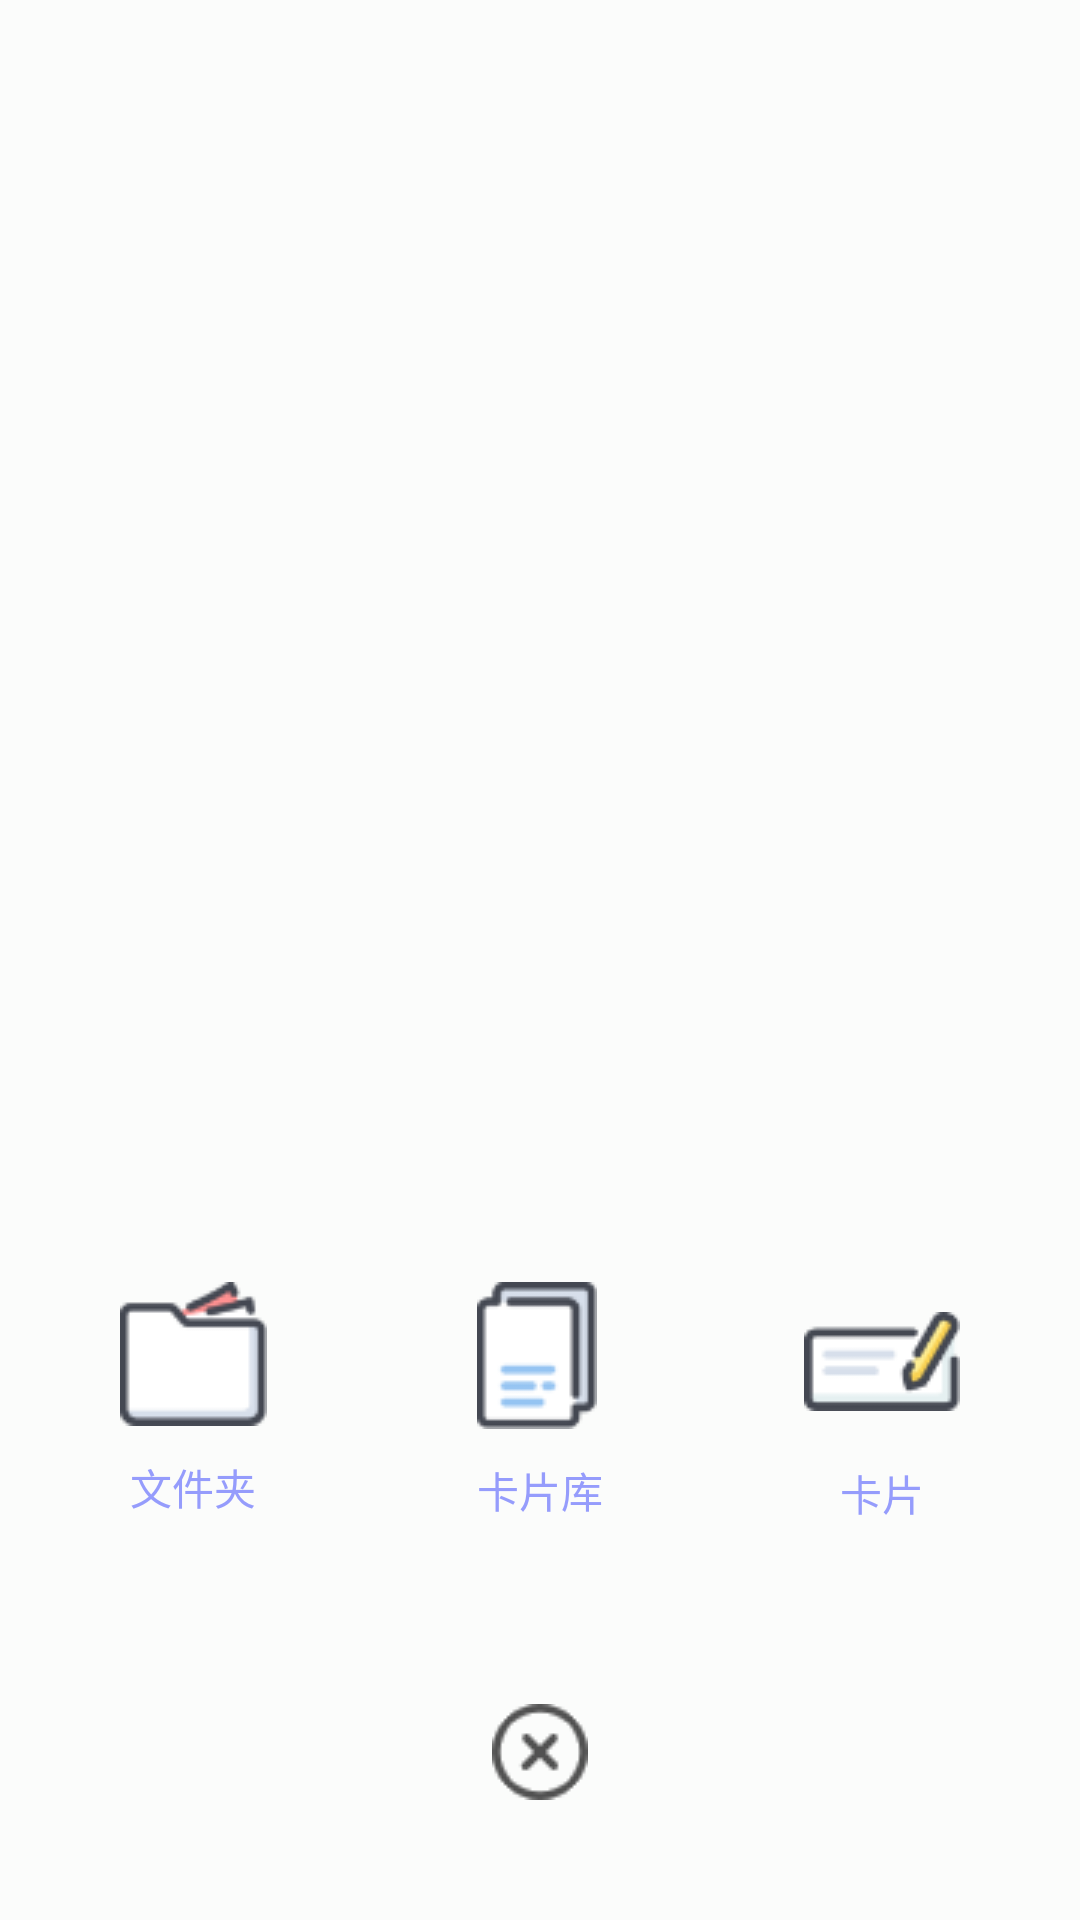

Screen size 1080px×1920px. Icon name, then its box in pixels as (x1, y1, x2, y2):
cancel: (492, 1704, 588, 1800)
